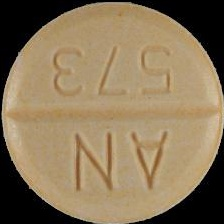42291-169: (0, 0, 224, 224)
